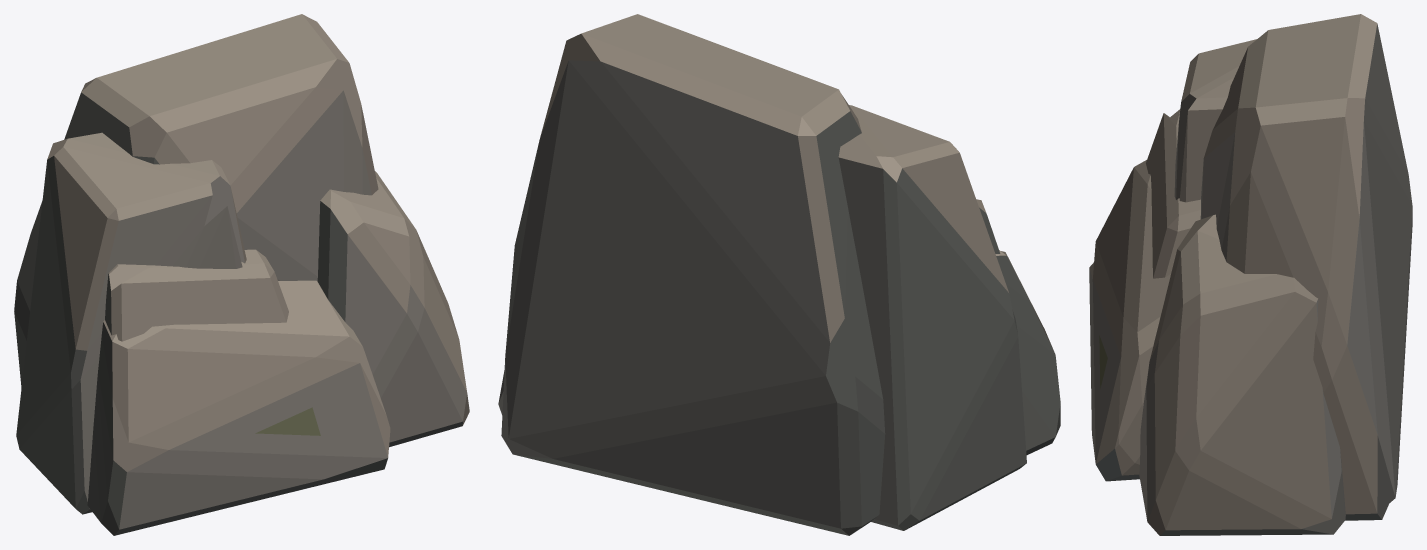
The model's file is verdant-cliff-buttress.glb.
3 renders of one model, left to right at view 1: azimuth 30°, elevation 25°; view 2: azimuth 150°, elevation 25°; view 3: azimuth 270°, elevation 25°, orthographic. The views are drawn at different scales.
Visible parts, largest first — view 1: verdant-cliff-buttress; view 2: verdant-cliff-buttress; view 3: verdant-cliff-buttress.
Boxes of the visible parts, box(x1,y1,x2,y2) form: verdant-cliff-buttress: box(14, 14, 469, 535); verdant-cliff-buttress: box(498, 14, 1060, 535); verdant-cliff-buttress: box(1089, 14, 1412, 535).
Bounding box in the file's own units: 3.88 × 3.46 × 2.55.
Materials: 1 (1 with a texture image).
